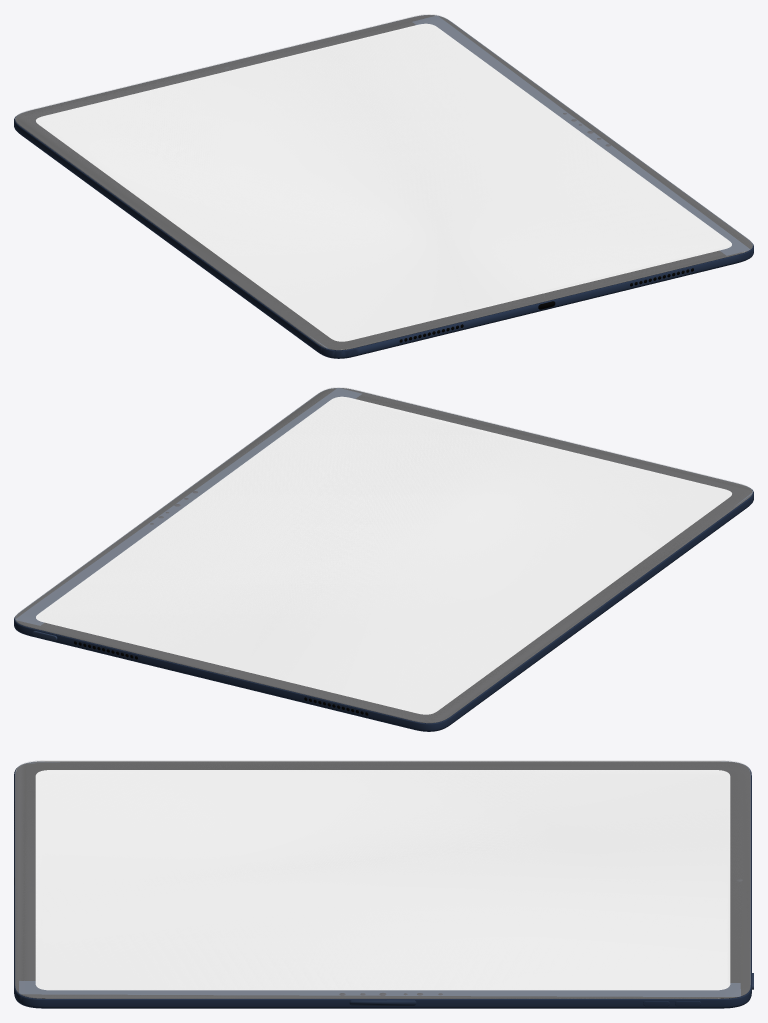
The model's file is ipad-pro.glb.
The picture shows the model from 3 angles, top to bottom: view 1: azimuth 30°, elevation 25°; view 2: azimuth 150°, elevation 25°; view 3: azimuth 270°, elevation 25°; orthographic projection. The views are drawn at different scales.
Parts seen in each view (by area): view 1: Verre_avant, Ecran, Masque_noir, Chassis_alu; view 2: Verre_avant, Ecran, Masque_noir, Chassis_alu; view 3: Verre_avant, Ecran, Masque_noir, Chassis_alu.
Boxes of the visible parts, <box> form: Verre_avant: <box>15,14,752,350</box>; Ecran: <box>36,23,731,341</box>; Masque_noir: <box>15,15,752,350</box>; Chassis_alu: <box>14,15,753,358</box>; Verre_avant: <box>15,387,752,722</box>; Ecran: <box>36,396,731,714</box>; Masque_noir: <box>15,388,751,723</box>; Chassis_alu: <box>14,388,753,731</box>; Verre_avant: <box>15,760,750,998</box>; Ecran: <box>35,770,730,990</box>; Masque_noir: <box>15,761,750,998</box>; Chassis_alu: <box>14,761,751,1008</box>.
Size of the model in its own units: 216 by 7.52 by 282.
